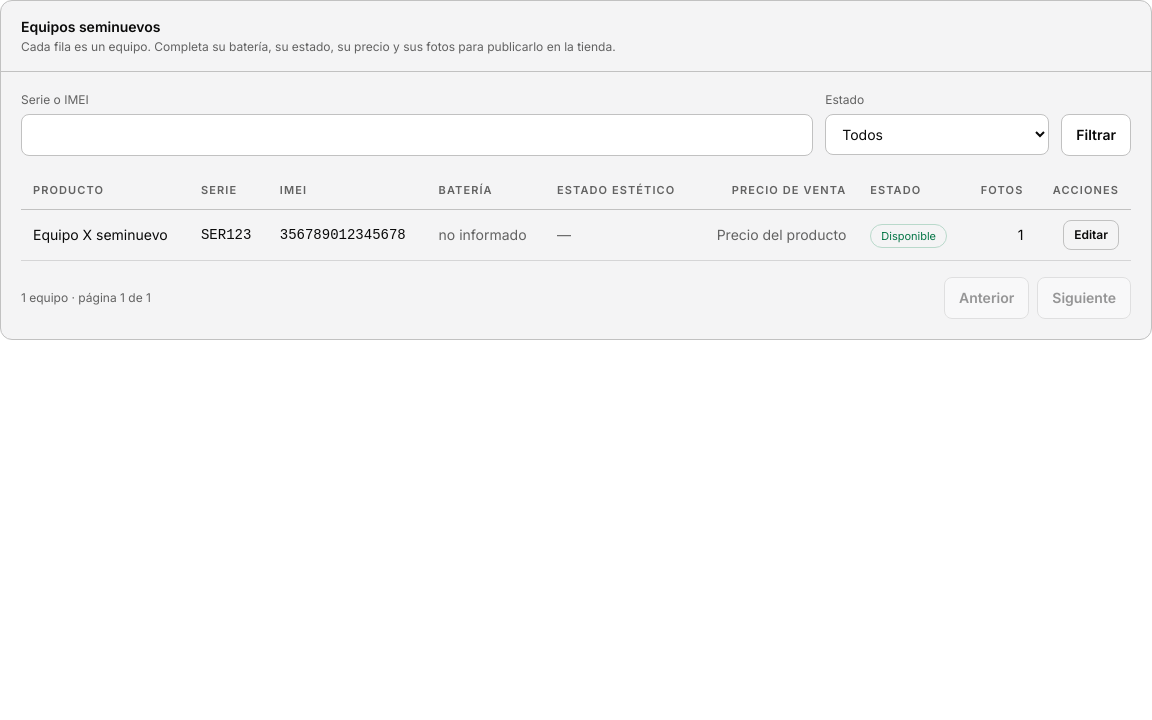
Test: Inventario › Seminuevos › una batería imposible no se envía
Click the button with aria-label "Editar SER123" at [1091, 234], box [1063,220,1119,250]
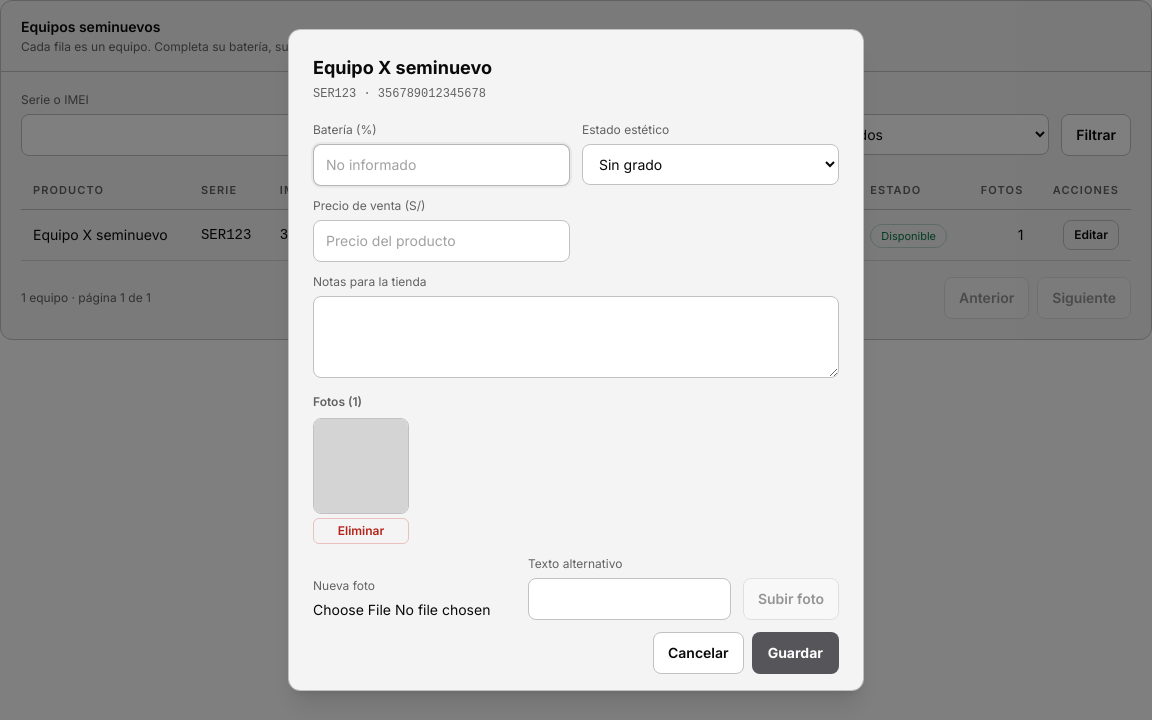
Type "140" into the field labelled "Batería (%)" at [442, 165], box [313,144,570,186]
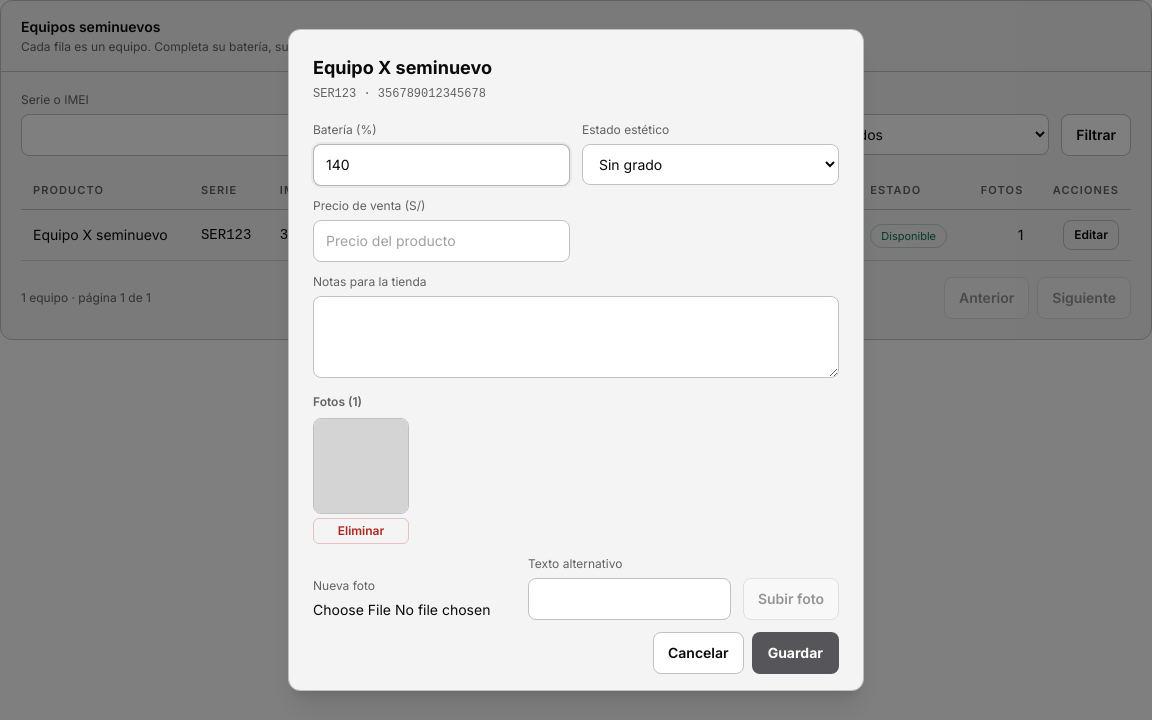
Click the button "Guardar" at [795, 653], box [752,632,839,674]
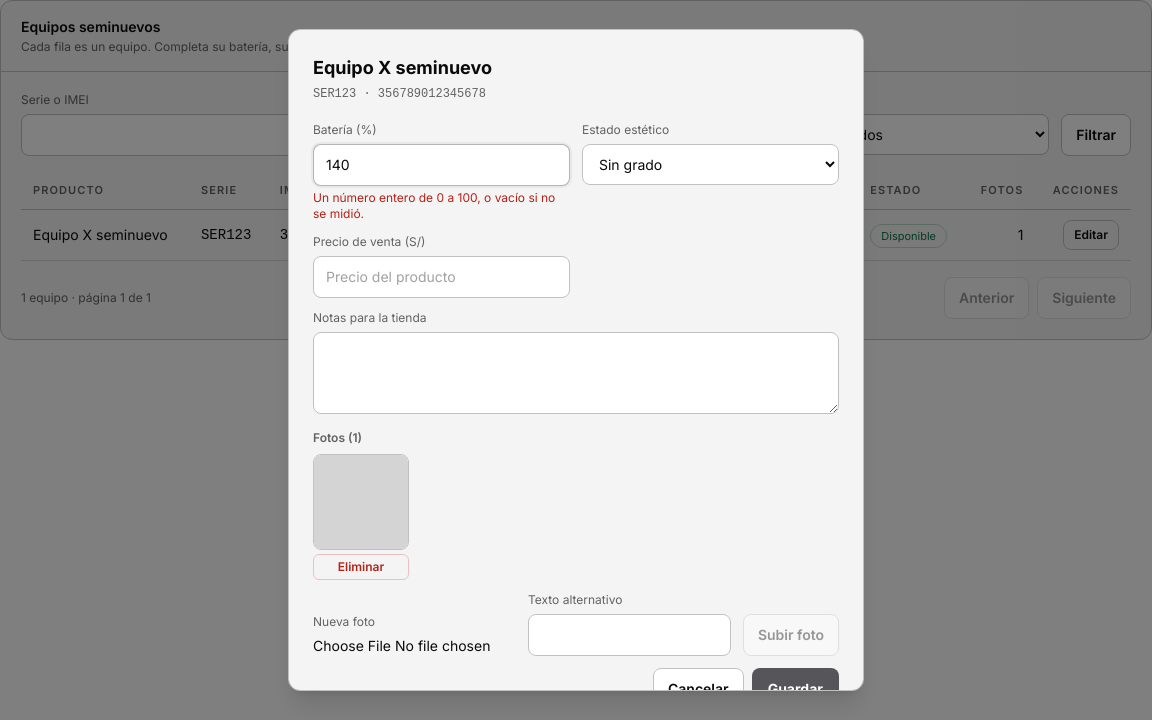
Expected: the message shows "0 a 100", [313,190,555,221]
